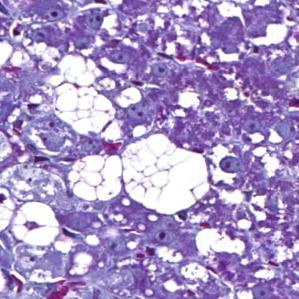ballooning: (119, 131, 215, 219), (48, 50, 120, 138), (59, 148, 126, 204), (9, 199, 61, 247)
